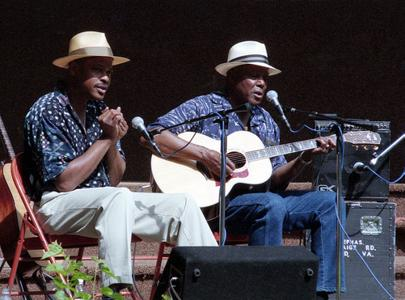person: (141, 41, 345, 298)
